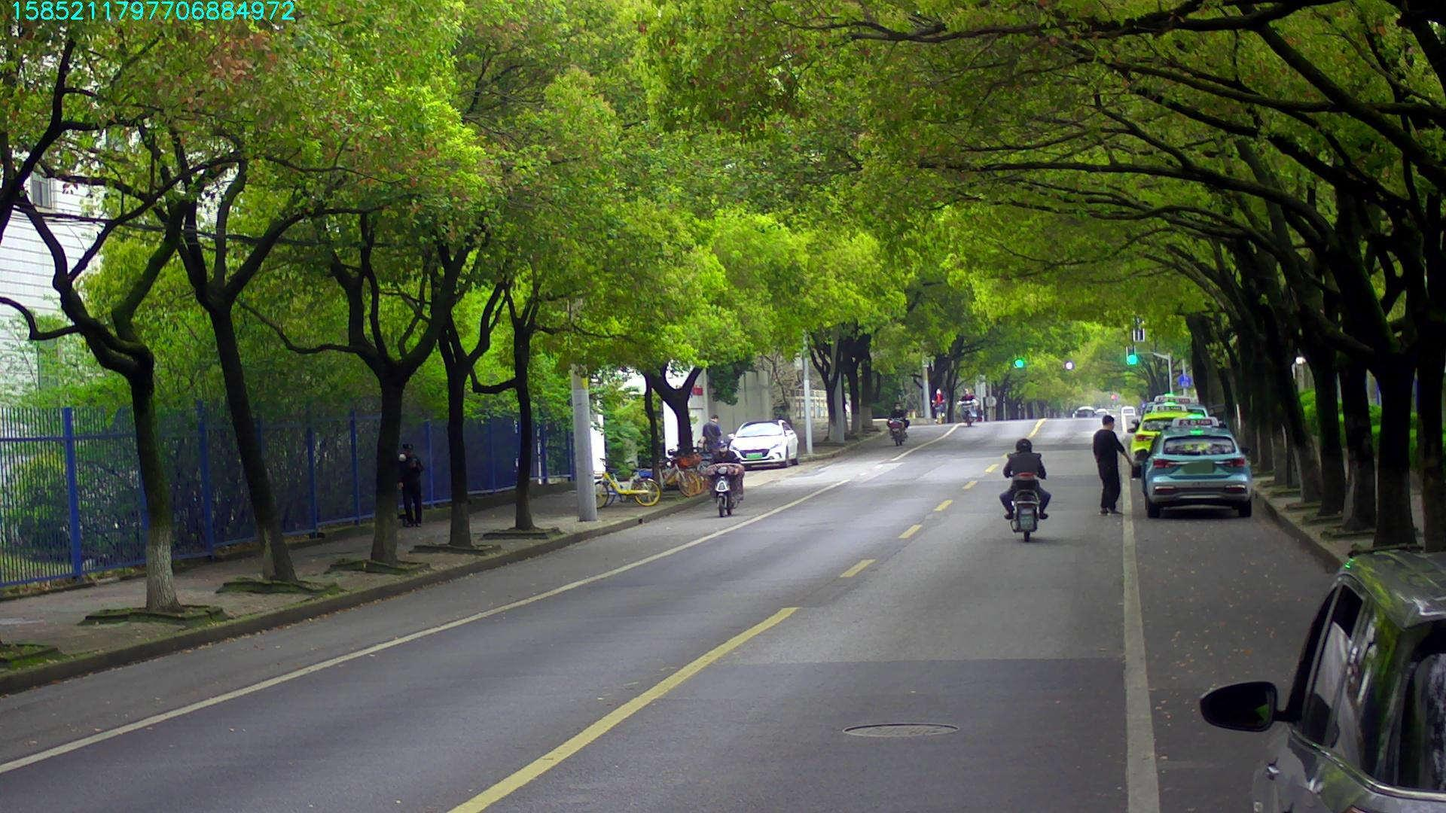green: (1126, 345, 1137, 365), (1014, 358, 1023, 368)
